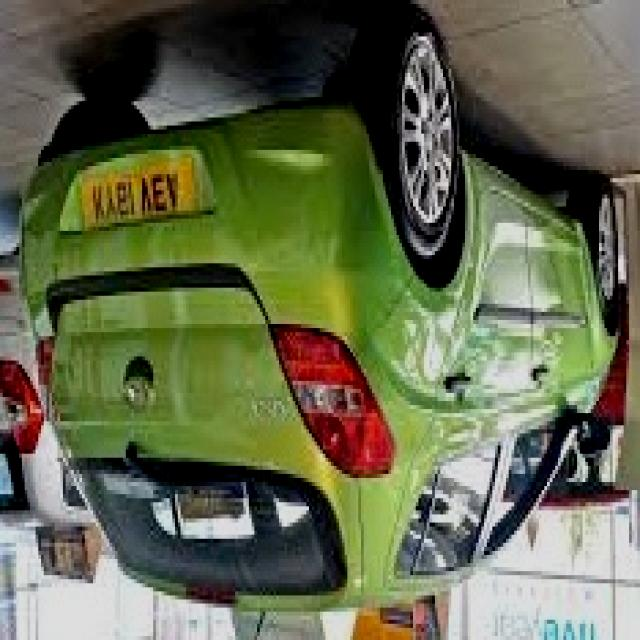green: (22, 52, 640, 608)
